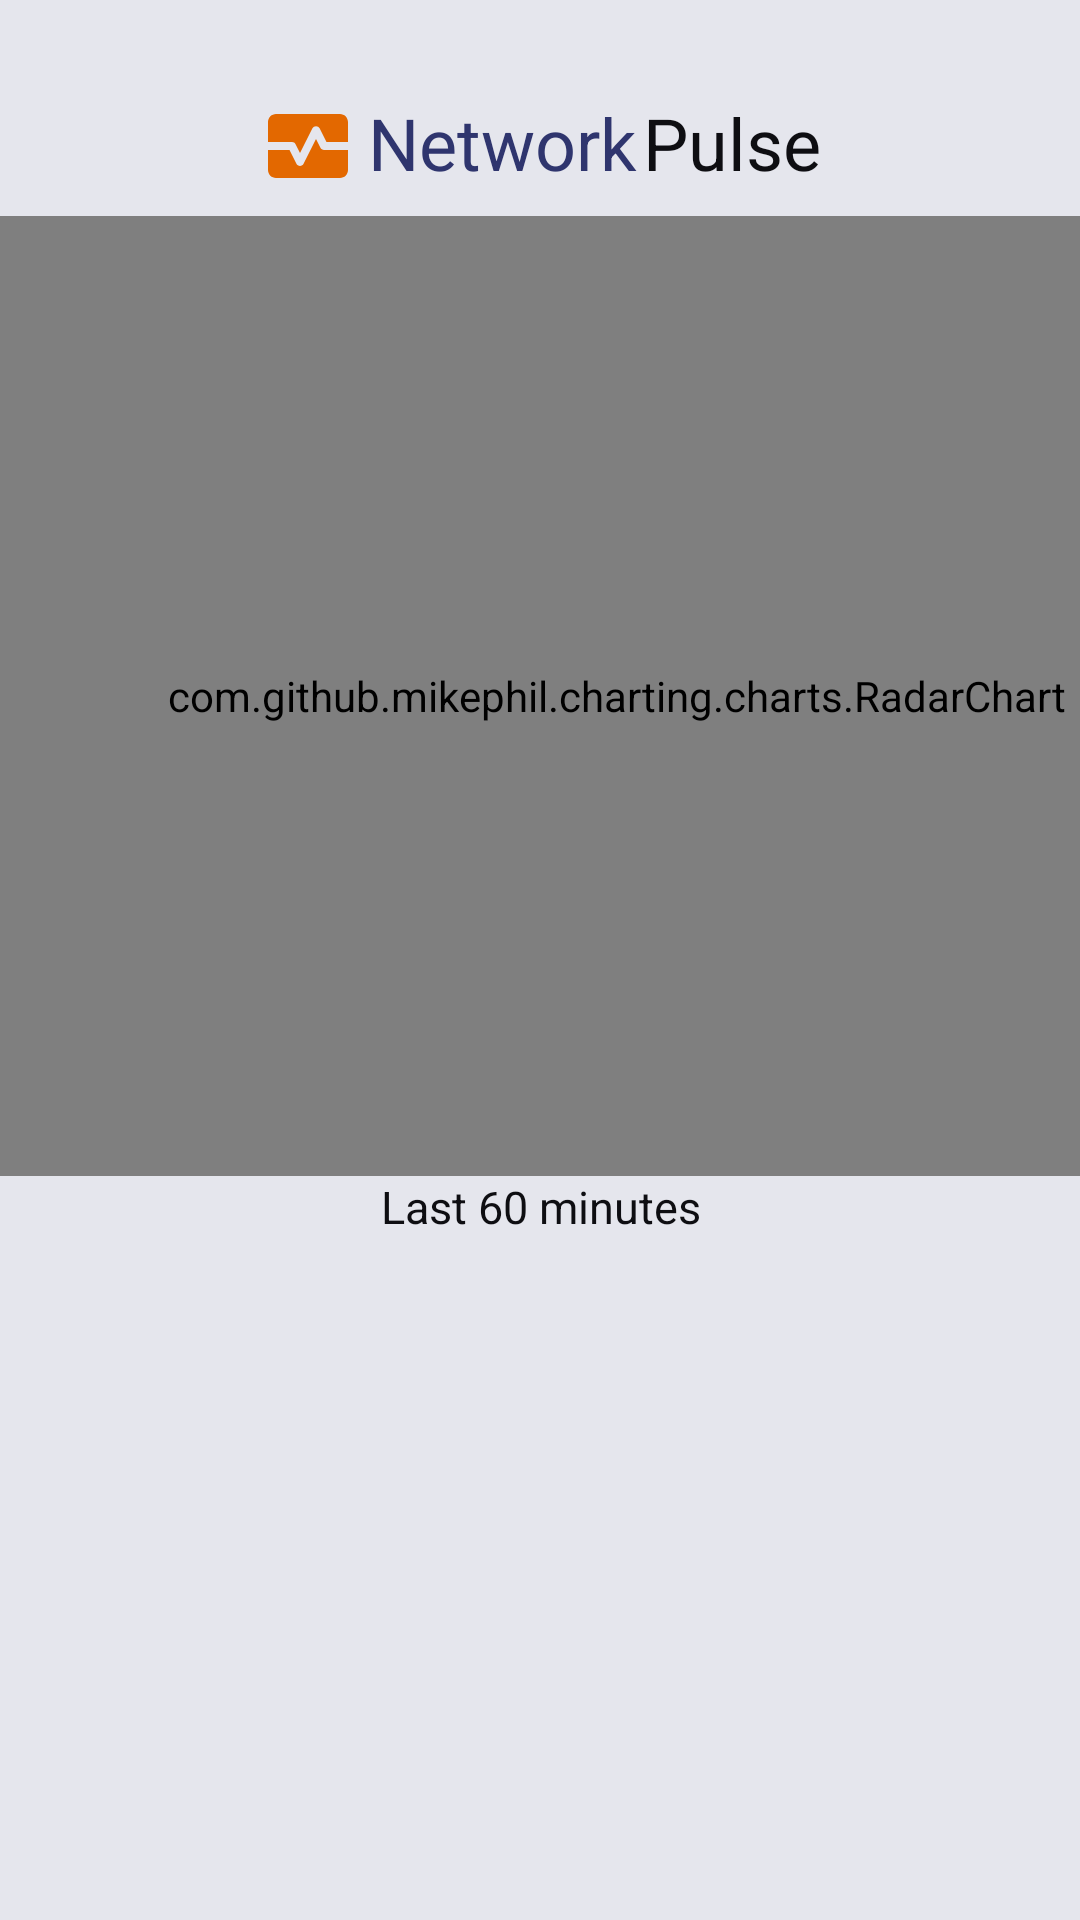

Where to tap for icons on this 1080px×1920px app screen, as point (x, y):
monitor heart: point (308, 146)
